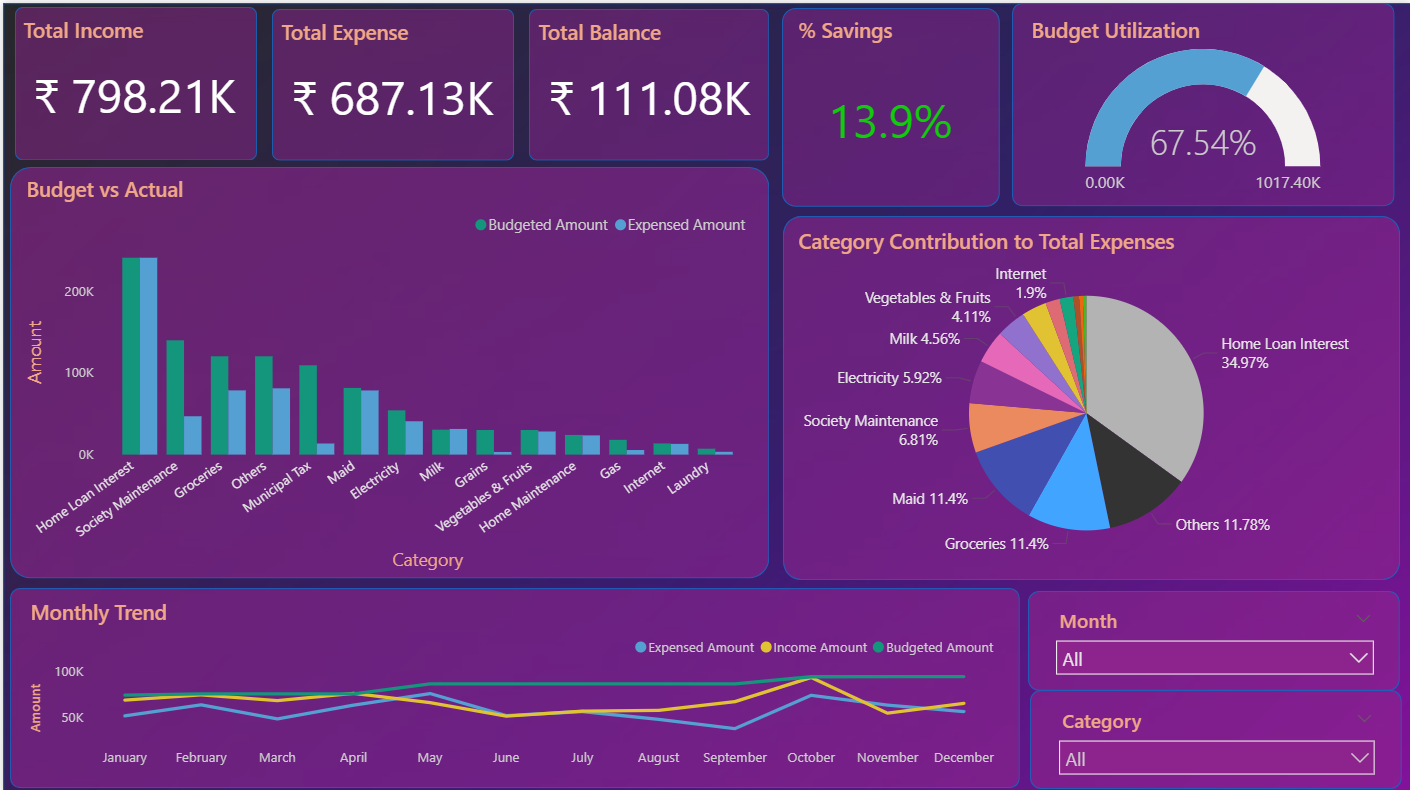

The dashboard page shown, as its layout file describes it:
{"tool":"powerbi","page":{"name":"Page 1","canvas":[1280,720],"ordinal":0},"visuals":[{"type":"shape","box":[244.7,5,220,137.7],"z":0},{"type":"shape","box":[6.4,531.4,918,182],"z":1000},{"type":"shape","box":[478.4,5,218.4,137.7],"z":2000},{"type":"card","title":"Total Expense","fields":{"Values":["Expenses.Total Expense"]},"box":[248,13.4,211.7,117.6],"z":3000},{"type":"shape","box":[10.6,3.4,220,139.4],"z":4000},{"type":"card","title":"Total Income","fields":{"Values":["Expenses.Total_Income"]},"box":[13.9,11.8,211.7,117.6],"z":5000},{"type":"card","title":"Total Balance","fields":{"Values":["Expenses.Balance"]},"box":[481.7,13.4,211.7,117.6],"z":6000},{"type":"shape","box":[708.9,193.6,561,330.9],"z":7000},{"type":"pieChart","title":"Category Contribution to Total Expenses","fields":{"Y":["Sum(Expenses.Amount)"],"Category":["Expenses.Category"]},"box":[718.3,203.3,533.3,313.3],"z":8000},{"type":"shape","box":[6.7,149.5,690.4,374],"z":9000},{"type":"clusteredColumnChart","title":"Budget vs Actual ","fields":{"Y":["Sum(Budget.Amount)","Sum(Expenses.Amount)"],"Category":["Category Details.Category"]},"box":[16.8,156.2,668.6,364.5],"z":10000},{"type":"lineChart","title":"Monthly Trend","fields":{"Y":["Sum(Expenses.Amount)","Sum(Incomes.Amount)","Sum(Budget.Amount)"],"Category":["Month_Details.Month"]},"box":[20.2,540.9,890.3,162.9],"z":11000},{"type":"shape","box":[917.2,0,347.7,184.8],"z":12000},{"type":"shape","box":[708.4,4.3,198.1,180.7],"z":13000},{"type":"card","title":"% Savings","fields":{"Values":["Expenses.Percentage Savings"]},"box":[718.6,11.6,176.4,161.9],"z":14000},{"type":"gauge","title":"Budget Utilization","fields":{"Y":["Sum(Expenses.Amount)"],"MaxValue":["Sum(Budget.Amount)"]},"box":[930,11.7,321.7,171.7],"z":15000},{"type":"shape","box":[931.9,534.2,338,90.7],"z":16000},{"type":"slicer","title":"Category Contribution to Total Expenses","fields":{"Values":["Month_Details.Month"]},"box":[947.4,544.3,309.1,68.9],"z":17000},{"type":"shape","box":[933.8,624.8,338,90],"z":18000},{"type":"slicer","title":"Category Contribution to Total Expenses","fields":{"Values":["Category Details.Category"]},"box":[950.2,635.2,307.4,67.2],"z":19000}]}

Visuals, with their boxes in screenshot pixels (x1, y1, x2, y2), scaled from the page's 1280x720 canvas onto the 1410x790 screenshot:
shape: (x1=270, y1=5, x2=512, y2=157)
shape: (x1=7, y1=583, x2=1018, y2=783)
shape: (x1=527, y1=5, x2=768, y2=157)
"Total Expense" card: (x1=273, y1=15, x2=506, y2=144)
shape: (x1=12, y1=4, x2=254, y2=157)
"Total Income" card: (x1=15, y1=13, x2=249, y2=142)
"Total Balance" card: (x1=531, y1=15, x2=764, y2=144)
shape: (x1=781, y1=212, x2=1399, y2=575)
"Category Contribution to Total Expenses" pieChart: (x1=791, y1=223, x2=1379, y2=567)
shape: (x1=7, y1=164, x2=768, y2=574)
"Budget vs Actual " clusteredColumnChart: (x1=19, y1=171, x2=755, y2=571)
"Monthly Trend" lineChart: (x1=22, y1=593, x2=1003, y2=772)
shape: (x1=1010, y1=0, x2=1393, y2=203)
shape: (x1=780, y1=5, x2=999, y2=203)
"% Savings" card: (x1=792, y1=13, x2=986, y2=190)
"Budget Utilization" gauge: (x1=1024, y1=13, x2=1379, y2=201)
shape: (x1=1027, y1=586, x2=1399, y2=686)
"Category Contribution to Total Expenses" slicer: (x1=1044, y1=597, x2=1384, y2=673)
shape: (x1=1029, y1=686, x2=1401, y2=784)
"Category Contribution to Total Expenses" slicer: (x1=1047, y1=697, x2=1385, y2=771)
